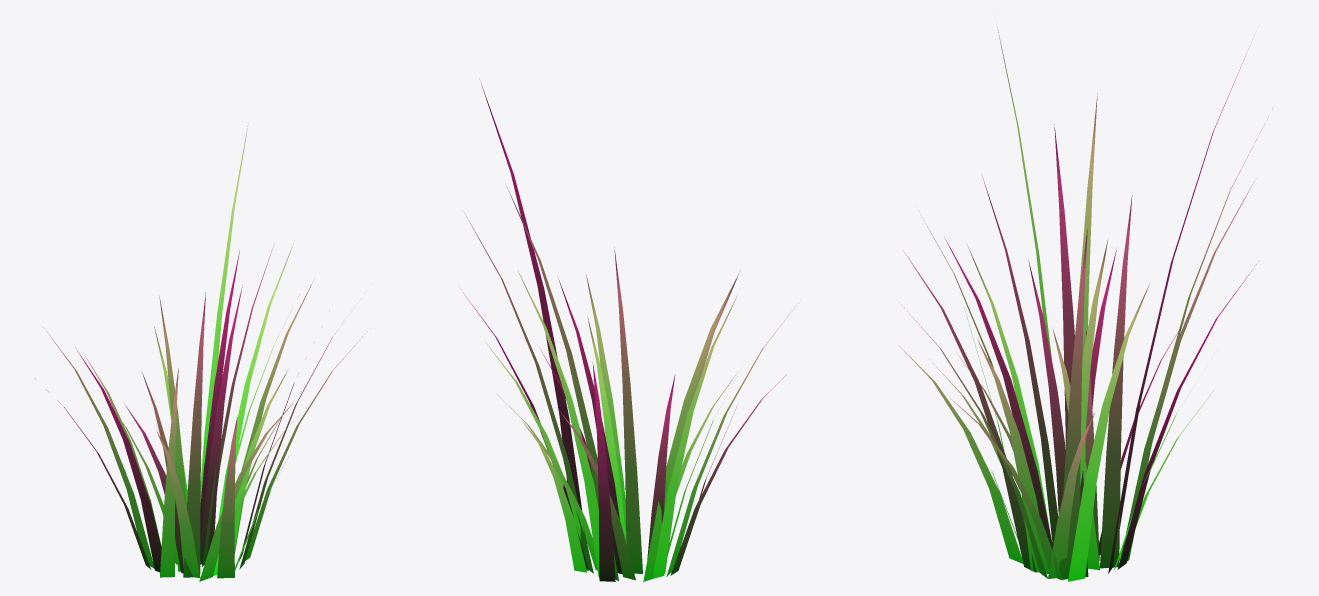
Rendered from grass_b.glb.
3 renders of one model, left to right at view 1: azimuth 30°, elevation 25°; view 2: azimuth 150°, elevation 25°; view 3: azimuth 270°, elevation 25°, orthographic. The views are drawn at different scales.
Parts seen in each view (by area): view 1: Grass_B; view 2: Grass_B; view 3: Grass_B.
Boxes of the visible parts, x1,y1,x2,y2 form: Grass_B: (35, 124, 367, 581); Grass_B: (463, 83, 796, 581); Grass_B: (898, 27, 1272, 581).
Bounding box in the file's own units: 0.9883 × 1.35 × 0.9735.
